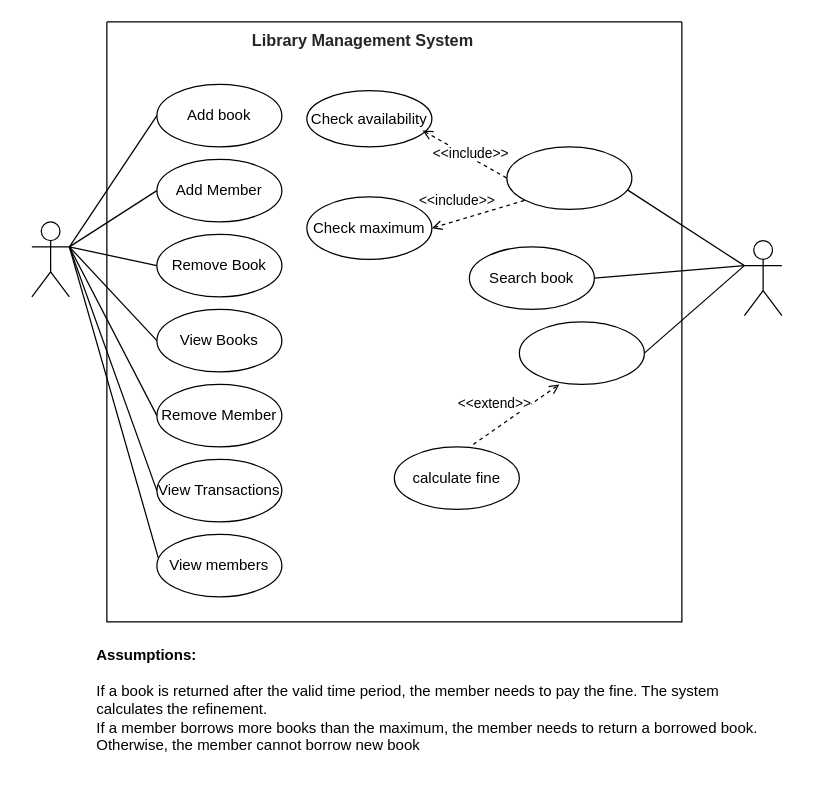
The diagram is 813 pixels wide and 794 high, and some of its shapes have lost their labels. Here are the shapes that lost their labels. From the top down, the centre of each, then its label:
At (569,177): "borrow book".
At (50,259): "Librarian".
At (762,277): "Member".
At (581,352): "return book".
